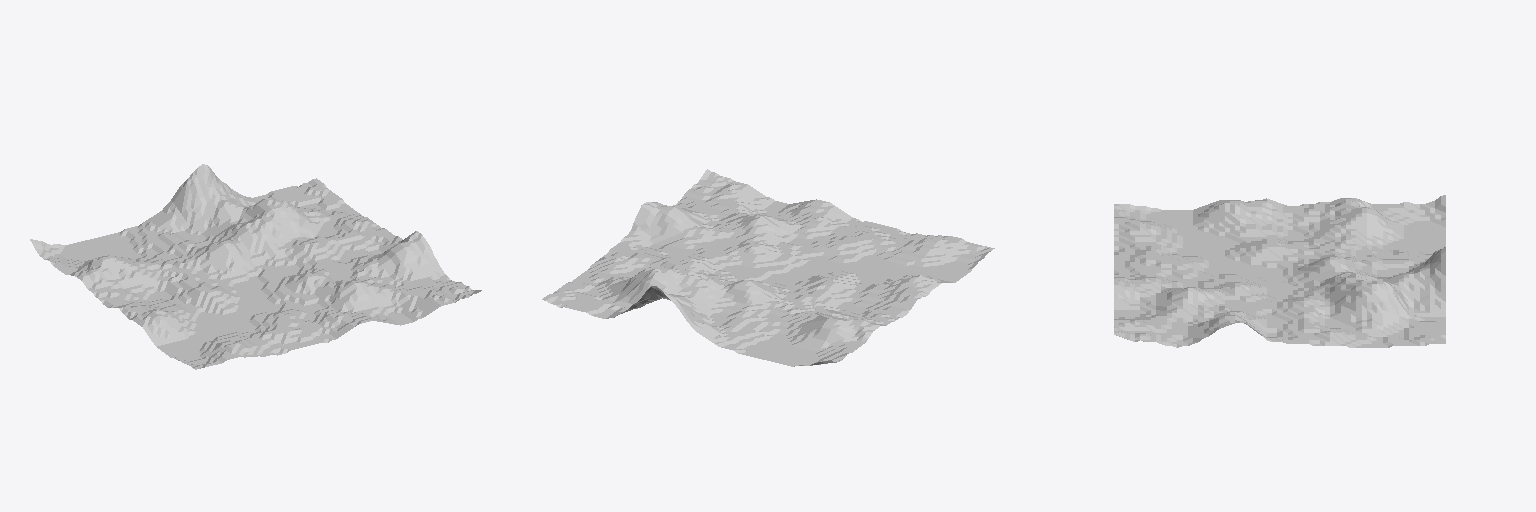
The model's file is terrain.obj.
3 renders of one model, left to right at view 1: azimuth 30°, elevation 25°; view 2: azimuth 150°, elevation 25°; view 3: azimuth 270°, elevation 25°, orthographic.
Parts seen in each view (by area): view 1: terrain; view 2: terrain; view 3: terrain.
Boxes of the visible parts, x1,y1,x2,y2 form: terrain: [30, 164, 481, 369]; terrain: [542, 169, 994, 366]; terrain: [1114, 195, 1445, 347].
Size of the model in its own units: 1260 by 200 by 1260.